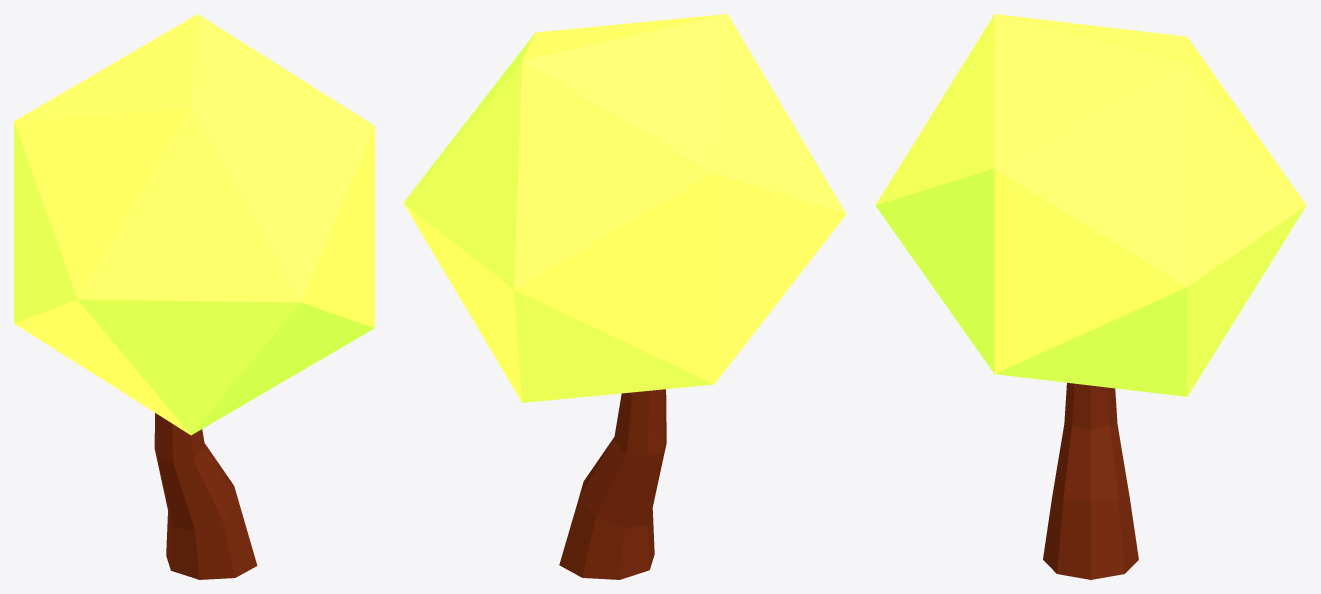
File: bush3.glb
The picture shows the model from 3 angles, left to right: view 1: azimuth 30°, elevation 25°; view 2: azimuth 150°, elevation 25°; view 3: azimuth 270°, elevation 25°; orthographic projection. The views are drawn at different scales.
Parts seen in each view (by area): view 1: Bush3; view 2: Bush3; view 3: Bush3.
Boxes of the visible parts, left/top/right/bottom form: Bush3: left=14, top=14, right=374, bottom=579; Bush3: left=403, top=14, right=846, bottom=579; Bush3: left=875, top=14, right=1306, bottom=579.
Size of the model in its own units: 85.52 by 125 by 95.62.
